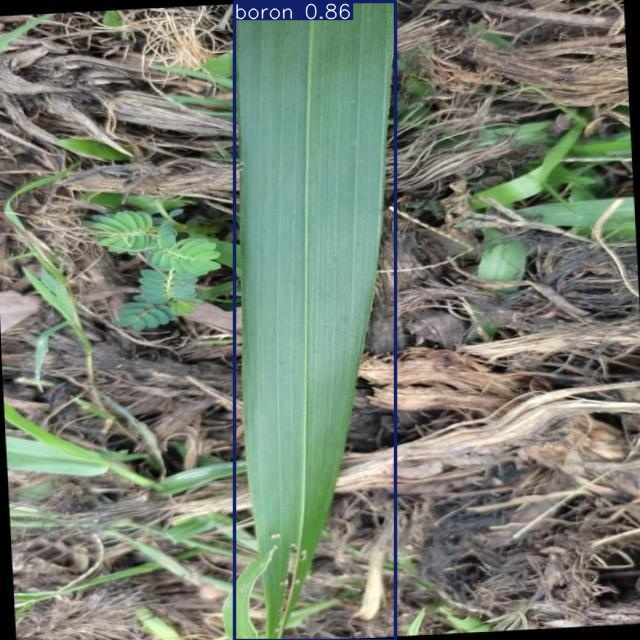nitrogen: (235, 2, 396, 640)
